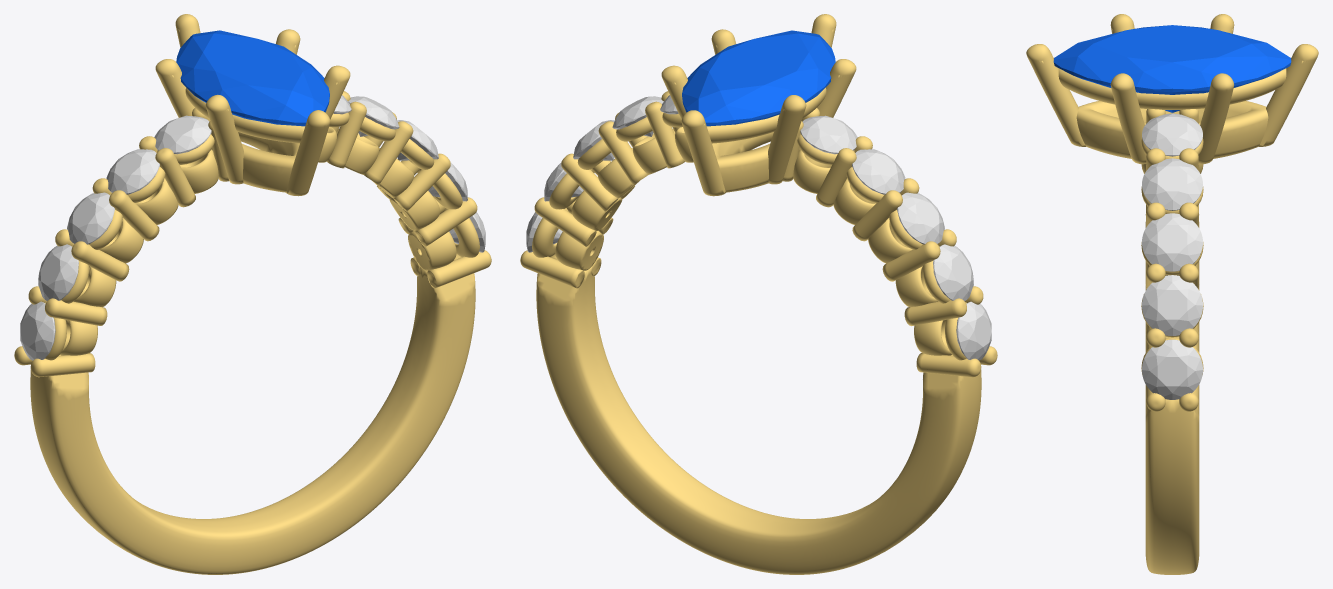
The model's file is bluesapphire-marquise-yellowgold-6prong-straightband-11stone.glb.
3 views of the same model, side by side, from view 1: azimuth 30°, elevation 25°; view 2: azimuth 150°, elevation 25°; view 3: azimuth 270°, elevation 25° (orthographic).
Parts seen in each view (by area): view 1: metal.001, stone.001, dia.014, dia.013, dia.015, dia.001, dia.016, dia.020; view 2: metal.001, stone.001, dia.014, dia.013, dia.015, dia.001, dia.016, dia.020; view 3: metal.001, stone.001, dia.018, dia.017, dia.019, dia.020, dia.021.
Part boxes in pixels (left/top/right/bottom): metal.001: left=14, top=14, right=491, bottom=574; stone.001: left=176, top=30, right=329, bottom=126; dia.014: left=67, top=192, right=114, bottom=244; dia.013: left=38, top=244, right=78, bottom=300; dia.015: left=106, top=149, right=159, bottom=194; dia.001: left=20, top=301, right=55, bottom=360; dia.016: left=154, top=115, right=211, bottom=154; dia.020: left=348, top=96, right=399, bottom=136; metal.001: left=520, top=14, right=997, bottom=574; stone.001: left=682, top=30, right=835, bottom=126; dia.014: left=897, top=192, right=944, bottom=244; dia.013: left=933, top=244, right=973, bottom=300; dia.015: left=852, top=149, right=905, bottom=194; dia.001: left=956, top=301, right=991, bottom=360; dia.016: left=800, top=115, right=857, bottom=154; dia.020: left=612, top=96, right=663, bottom=136; metal.001: left=1026, top=14, right=1318, bottom=574; stone.001: left=1053, top=25, right=1291, bottom=112; dia.018: left=1142, top=275, right=1202, bottom=335; dia.017: left=1142, top=339, right=1202, bottom=399; dia.019: left=1142, top=213, right=1202, bottom=271; dia.020: left=1142, top=158, right=1202, bottom=210; dia.021: left=1142, top=113, right=1202, bottom=156.
Bounding box in the file's own units: 21.88 × 22.94 × 11.96.
